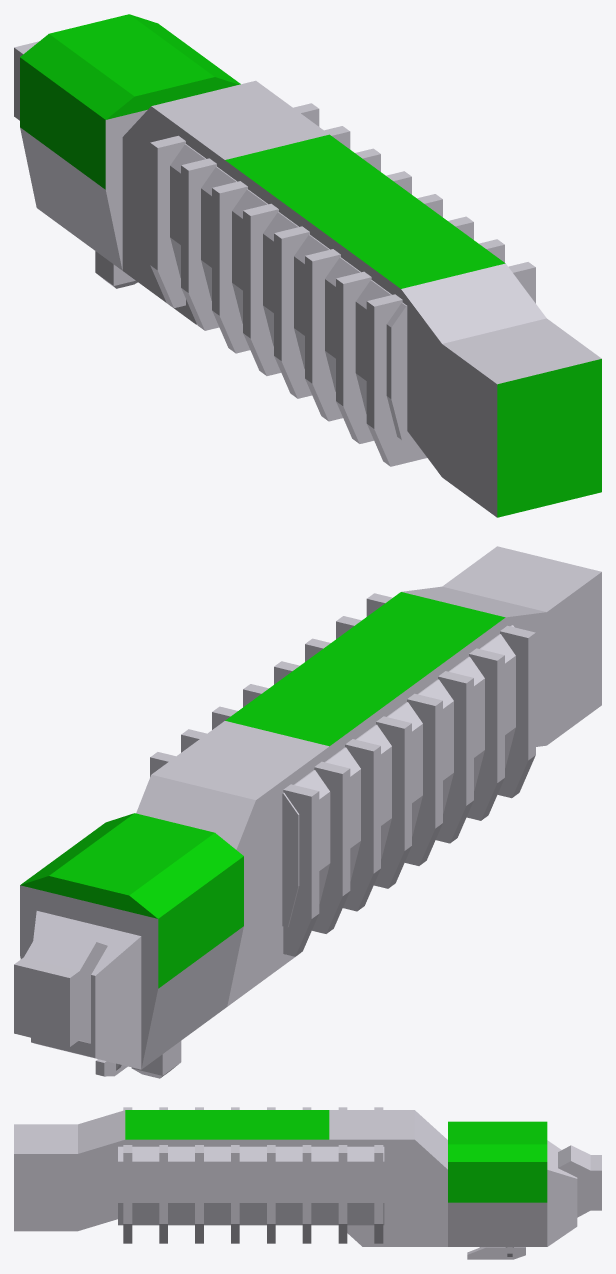
Rendered from Beard.fbx.
3 renders of one model, top to bottom at view 1: azimuth 30°, elevation 25°; view 2: azimuth 150°, elevation 25°; view 3: azimuth 270°, elevation 25°, orthographic. The views are drawn at different scales.
Parts seen in each view (by area): view 1: Beard; view 2: Beard; view 3: Beard.
Part boxes in pixels (x1,y1,x2,y2): Beard: (14,14,601,517); Beard: (14,546,601,1078); Beard: (14,1107,601,1259).
Size of the model in its own units: 1.76 by 2.43 by 9.6.
